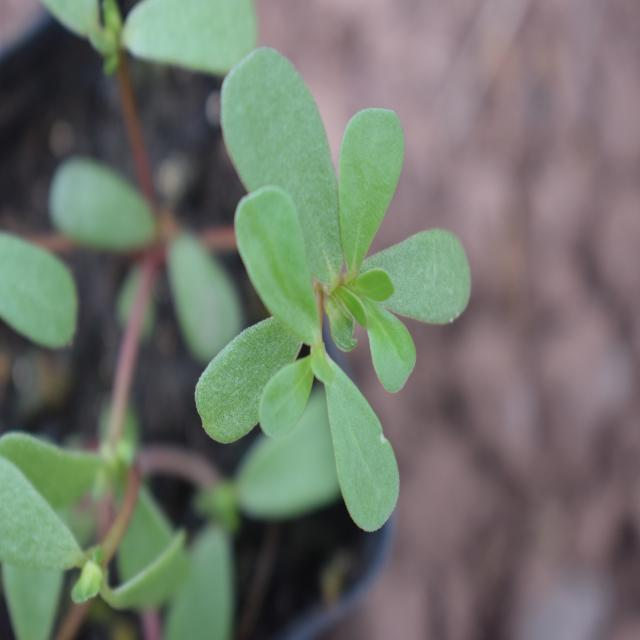purslane: (155, 30, 486, 536)
